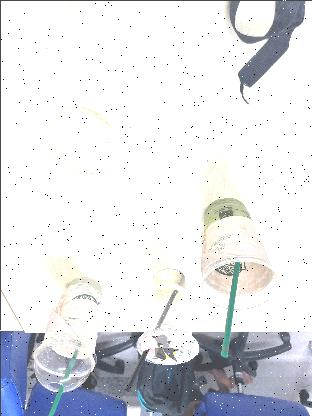Others: (198, 190, 284, 310), (29, 276, 116, 380), (122, 284, 180, 398), (42, 104, 123, 182), (134, 262, 192, 364), (208, 251, 248, 363), (26, 344, 96, 392), (42, 340, 84, 416)
